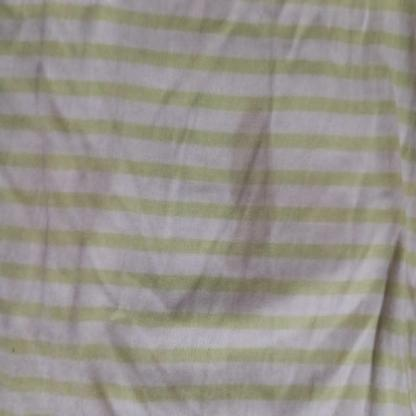spot: (223, 80, 279, 333), (154, 239, 271, 319), (235, 111, 269, 276)
